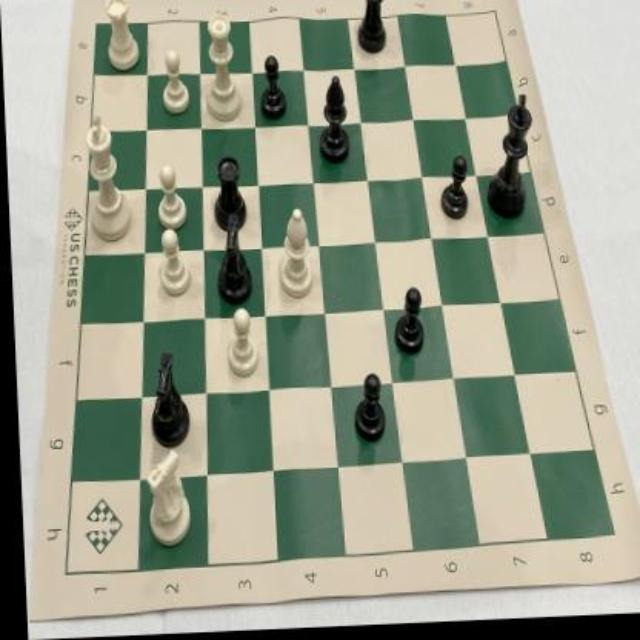black-bishop: (312, 73, 354, 177)
black-king: (476, 86, 540, 230)
black-knight: (143, 346, 190, 455), (205, 211, 254, 312)
black-pawn: (386, 282, 426, 366), (346, 372, 387, 452), (252, 52, 288, 125), (435, 156, 471, 226)
black-rook: (209, 153, 253, 245), (354, 0, 392, 67)
white-bishop: (268, 202, 315, 308)
white-king: (76, 100, 134, 250)
white-knight: (133, 444, 196, 553)
white-pawn: (215, 300, 261, 383), (150, 226, 193, 302), (146, 162, 186, 234), (156, 50, 194, 123)
white-queen: (200, 7, 246, 130)
white-rook: (99, 0, 145, 80)
